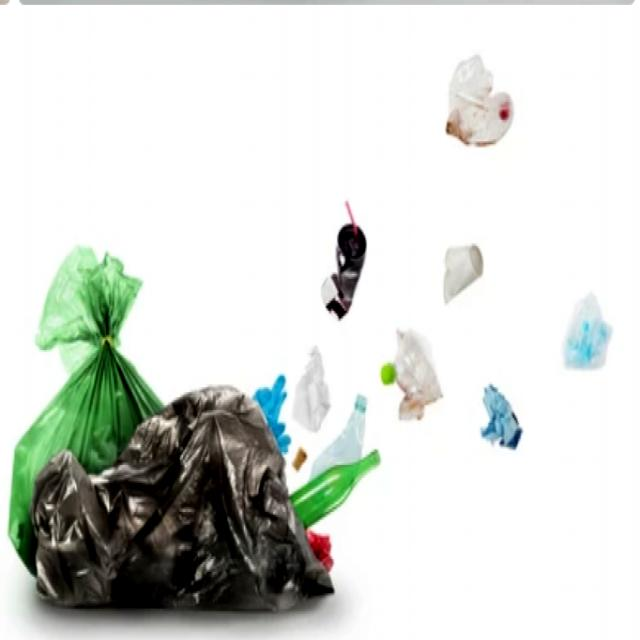Glass: (292, 449, 384, 529)
Metal: (317, 217, 371, 322)
Trash: (28, 383, 342, 617), (4, 239, 183, 581), (443, 55, 515, 149), (474, 376, 524, 451), (440, 242, 486, 304)
